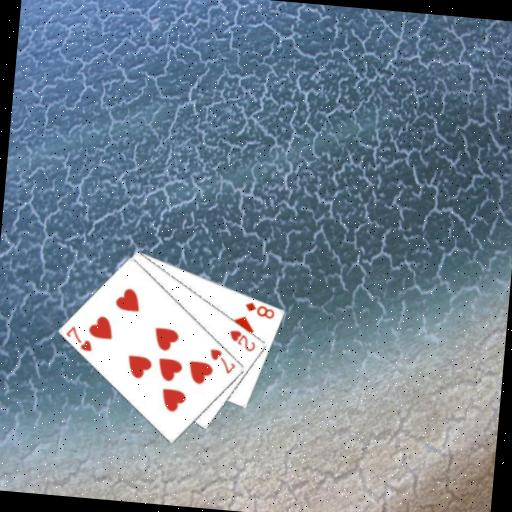2H: (225, 326, 259, 354)
7H: (205, 346, 239, 377), (62, 322, 96, 353)
8D: (242, 299, 278, 321)
